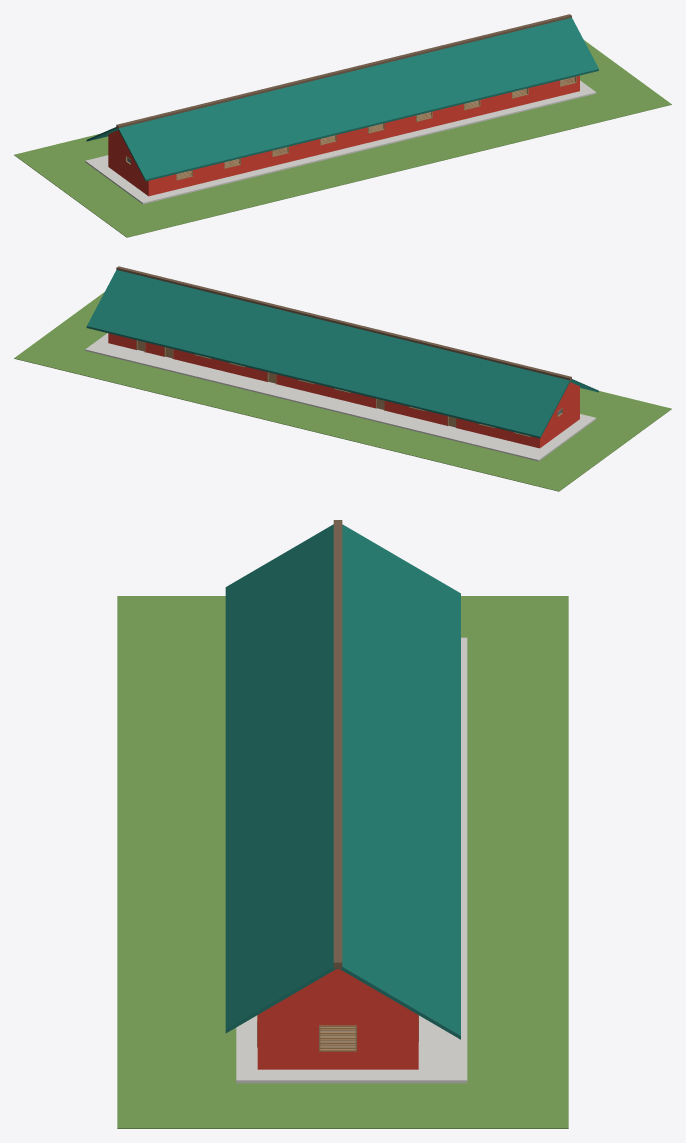
File: fila_oficinas.glb
The picture shows the model from 3 angles, top to bottom: view 1: azimuth 30°, elevation 25°; view 2: azimuth 150°, elevation 25°; view 3: azimuth 270°, elevation 25°; orthographic projection. The views are drawn at different scales.
Visible parts, largest first — view 1: Oficina 3 / Sala 2 Videoconferencia / Laboratorio - Innovaci; view 2: Oficina 3 / Sala 2 Videoconferencia / Laboratorio - Innovaci; view 3: Oficina 3 / Sala 2 Videoconferencia / Laboratorio - Innovaci.
Boxes of the visible parts, x1=… form: Oficina 3 / Sala 2 Videoconferencia / Laboratorio - Innovaci: x1=14, y1=14, x2=671, y2=237; Oficina 3 / Sala 2 Videoconferencia / Laboratorio - Innovaci: x1=14, y1=266, x2=671, y2=491; Oficina 3 / Sala 2 Videoconferencia / Laboratorio - Innovaci: x1=117, y1=520, x2=568, y2=1128.
Size of the model in its own units: 59.49 by 6.33 by 21.33.
